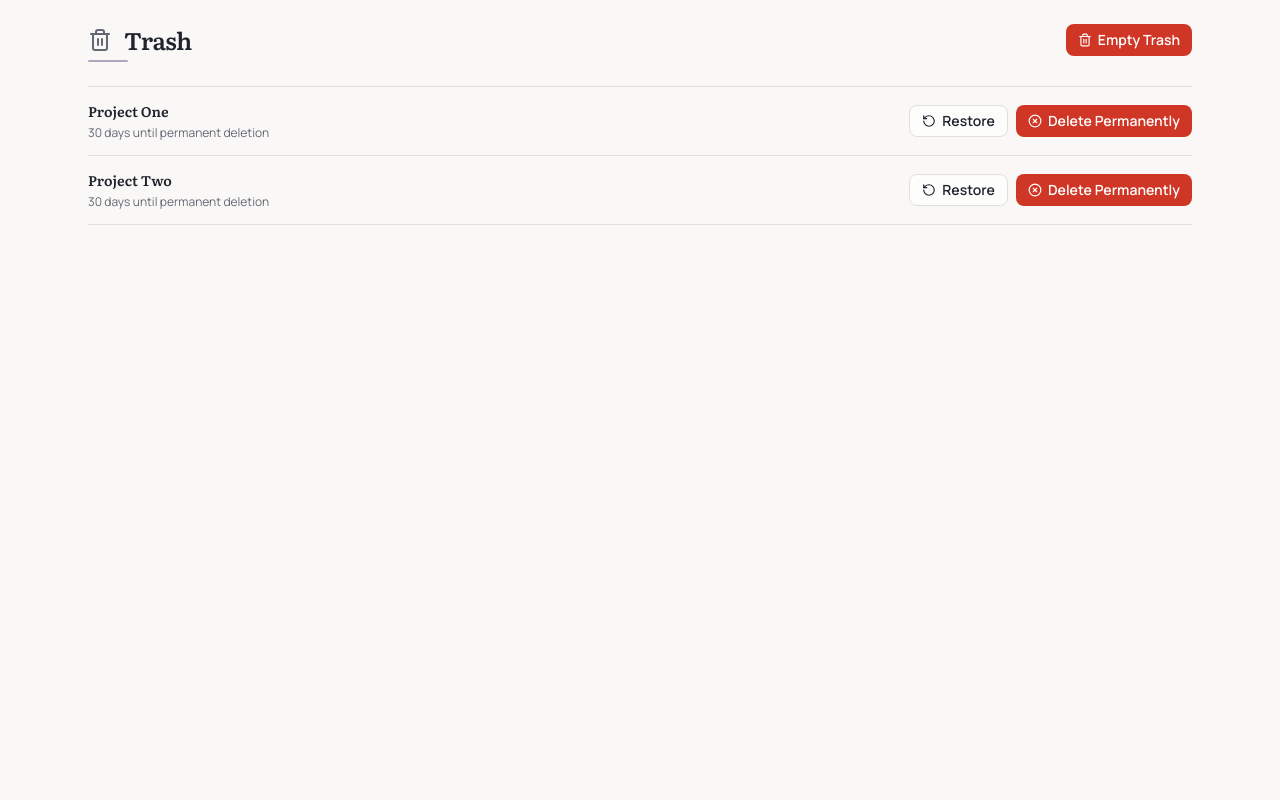
TrashPage: permanent-delete confirmation flow (per project) › clicking "Delete Permanently" only opens the dialog, does not delete
Click the button "Delete Permanently" in the row of "Project One".
click(1104, 121)  # box [1016,105,1192,137]
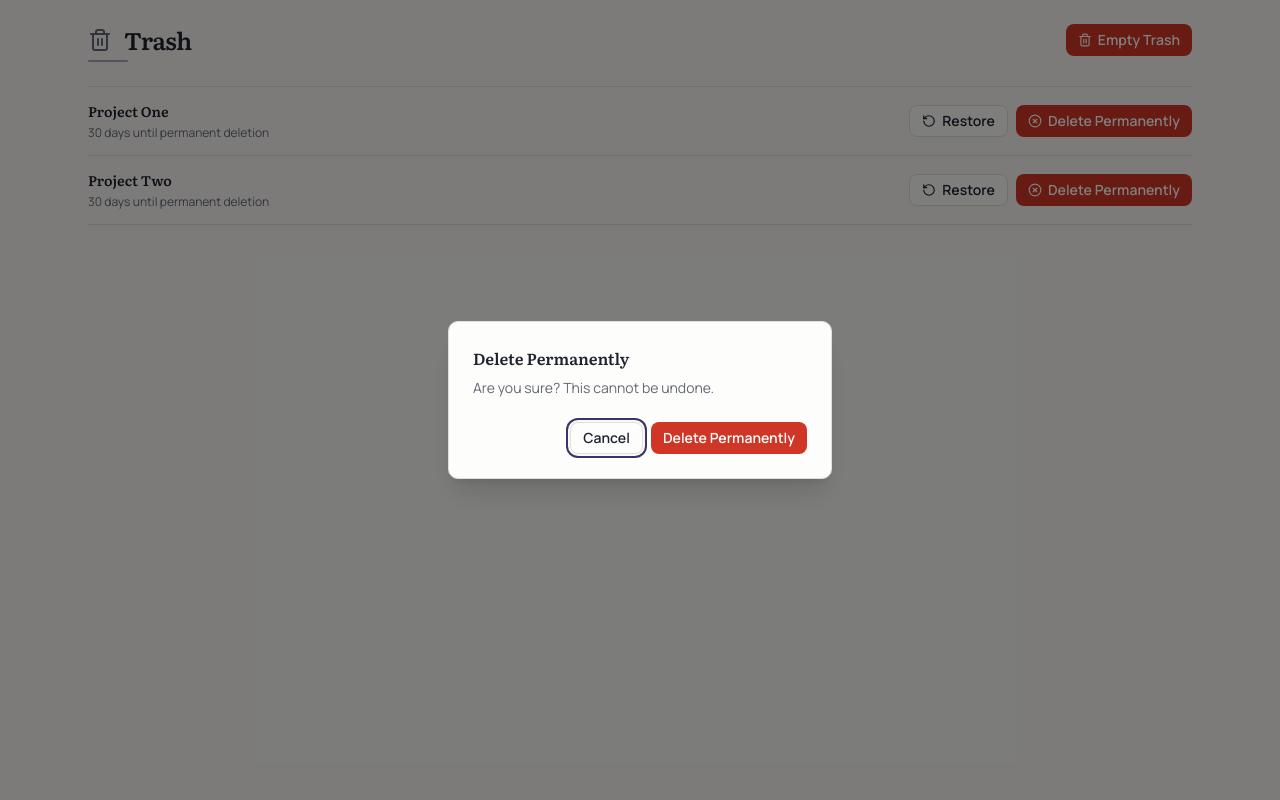
Expected: the dialog is shown
